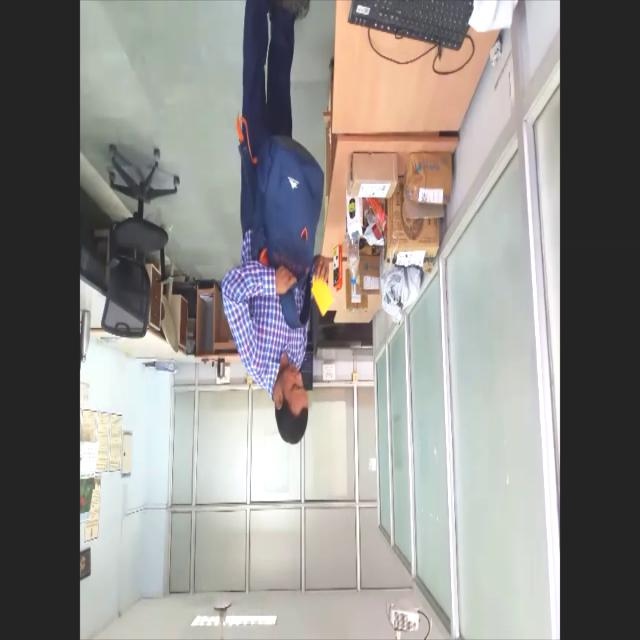shoplifting: (218, 0, 339, 455)
